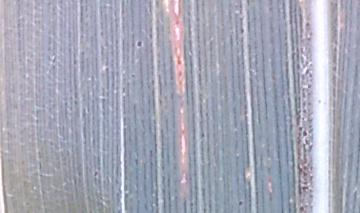tarspot: (300, 128, 309, 138), (136, 39, 144, 50), (237, 199, 245, 207), (298, 205, 306, 213), (239, 26, 245, 36), (305, 20, 311, 29), (92, 170, 98, 178)
